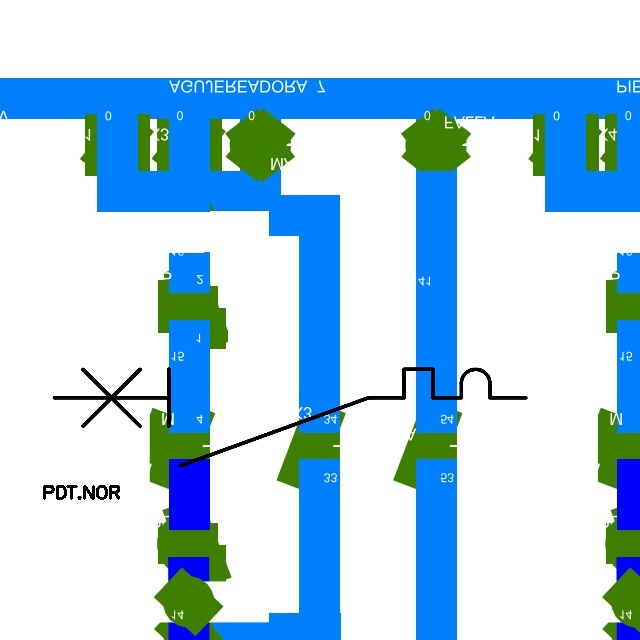interruptor_termomagnetico: (42, 357, 538, 478)
